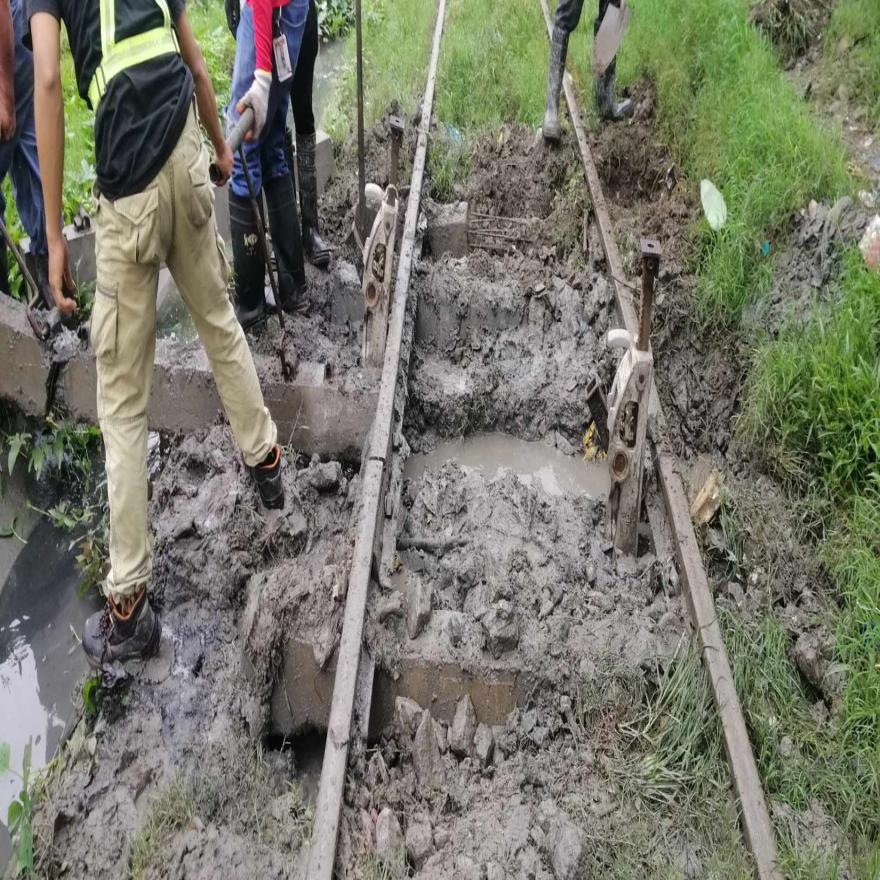railway-gap: (354, 416, 397, 502)
